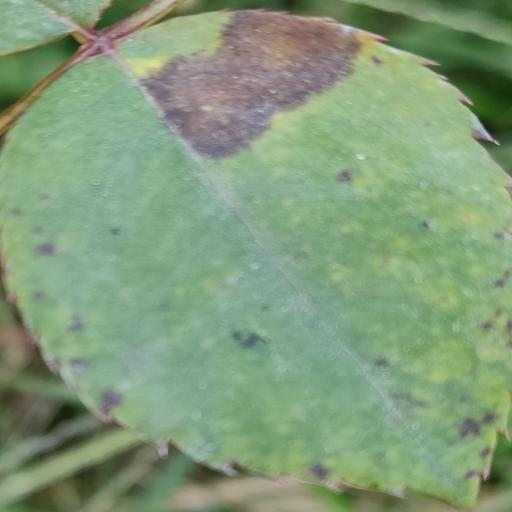black_spot: (0, 0, 512, 507)
